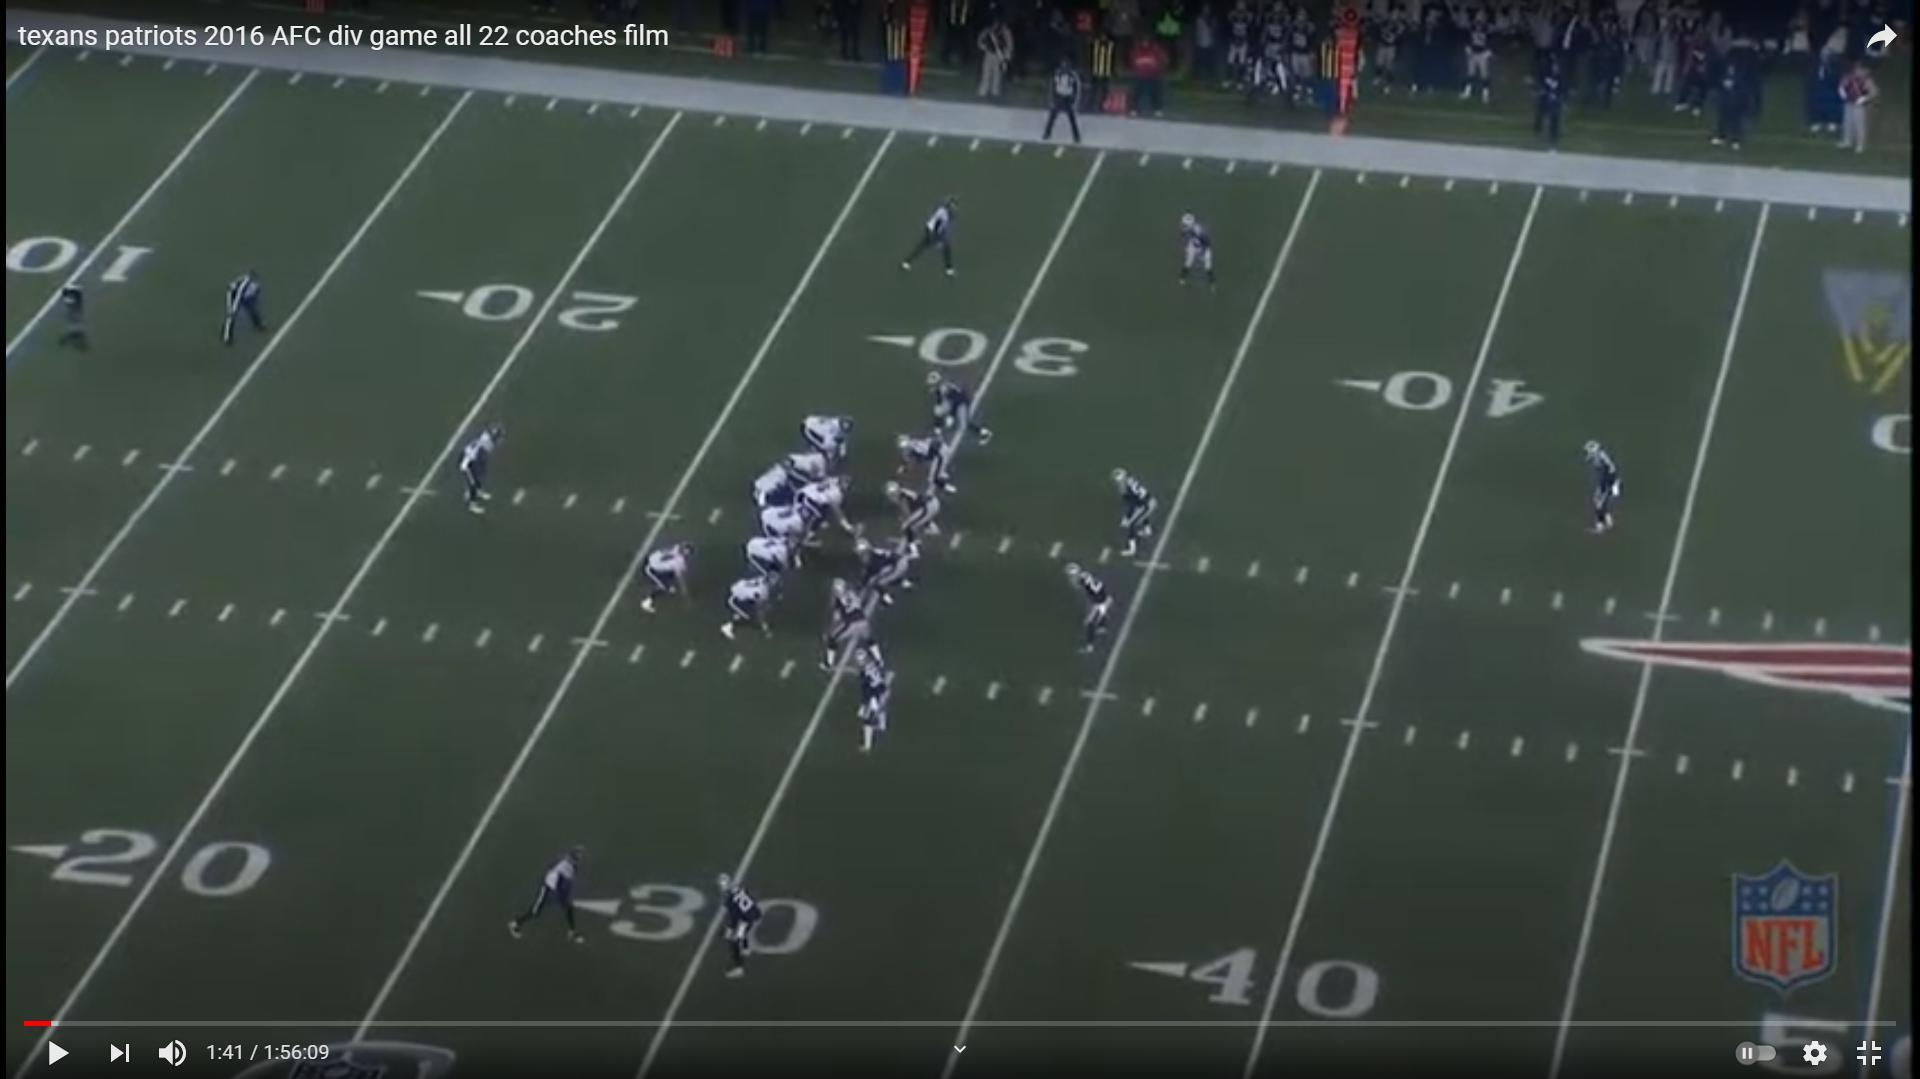player: (508, 846, 590, 941), (823, 572, 892, 671), (900, 192, 969, 286), (848, 642, 899, 762), (928, 366, 997, 450), (851, 534, 922, 613), (1062, 560, 1118, 660), (880, 476, 946, 560), (635, 532, 697, 621), (715, 867, 763, 981), (894, 434, 969, 506), (451, 419, 504, 520), (719, 567, 787, 645), (1167, 209, 1222, 299), (1107, 466, 1158, 562), (740, 526, 808, 596), (794, 471, 857, 544), (753, 500, 816, 572), (1581, 435, 1624, 540), (798, 407, 858, 455), (749, 450, 795, 510), (788, 447, 846, 490)
ref: (1038, 62, 1092, 158), (220, 265, 269, 363)
